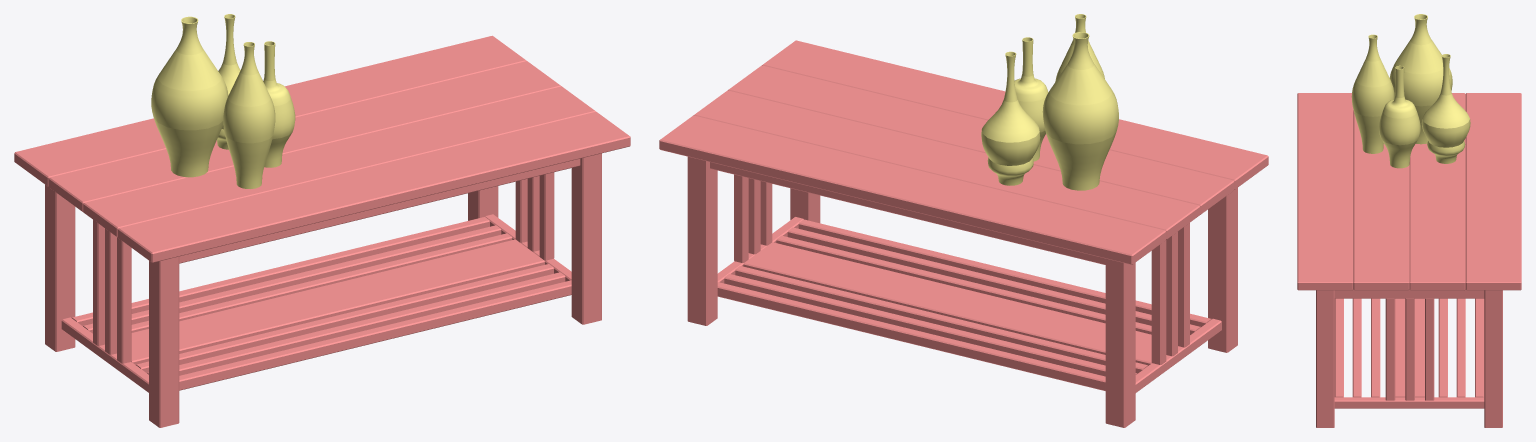
The model's file is uploads_files_191896_Coffee+Table_2_fbx.FBX.
3 views of the same model, side by side, from view 1: azimuth 30°, elevation 25°; view 2: azimuth 150°, elevation 25°; view 3: azimuth 270°, elevation 25° (orthographic). The views are drawn at different scales.
Parts seen in each view (by area): view 1: CT02_obj10, CT02_obj06, CT02_obj08, CT02_obj01, CT02_obj09, CT02_obj03, CT02_obj05, CT02_obj07, CT02_obj02, CT02_obj04; view 2: CT02_obj10, CT02_obj06, CT02_obj08, CT02_obj01, CT02_obj09, CT02_obj04, CT02_obj05, CT02_obj07, CT02_obj02, CT02_obj03; view 3: CT02_obj10, CT02_obj06, CT02_obj05, CT02_obj08, CT02_obj01, CT02_obj03, CT02_obj04, CT02_obj02.
Boxes of the visible parts, bbox=[...] form: CT02_obj10: bbox=[14, 35, 630, 262]; CT02_obj06: bbox=[72, 217, 571, 390]; CT02_obj08: bbox=[45, 153, 601, 427]; CT02_obj01: bbox=[151, 16, 228, 177]; CT02_obj09: bbox=[61, 220, 148, 392]; CT02_obj03: bbox=[223, 42, 275, 188]; CT02_obj05: bbox=[485, 172, 571, 281]; CT02_obj07: bbox=[179, 159, 580, 263]; CT02_obj02: bbox=[263, 41, 295, 167]; CT02_obj04: bbox=[217, 14, 240, 149]; CT02_obj10: bbox=[659, 40, 1268, 264]; CT02_obj06: bbox=[717, 219, 1211, 390]; CT02_obj08: bbox=[687, 156, 1237, 427]; CT02_obj01: bbox=[1042, 32, 1118, 190]; CT02_obj09: bbox=[1135, 223, 1221, 392]; CT02_obj04: bbox=[981, 51, 1040, 185]; CT02_obj05: bbox=[717, 174, 803, 283]; CT02_obj07: bbox=[710, 162, 1105, 264]; CT02_obj02: bbox=[1014, 37, 1048, 161]; CT02_obj03: bbox=[1055, 14, 1104, 81]; CT02_obj10: bbox=[1297, 93, 1521, 290]; CT02_obj06: bbox=[1334, 298, 1484, 397]; CT02_obj05: bbox=[1334, 289, 1484, 408]; CT02_obj08: bbox=[1316, 290, 1502, 427]; CT02_obj01: bbox=[1390, 14, 1452, 144]; CT02_obj03: bbox=[1351, 34, 1394, 153]; CT02_obj04: bbox=[1421, 54, 1470, 163]; CT02_obj02: bbox=[1379, 65, 1420, 168].
Size of the model in its own units: 48 by 24 by 32.27.
